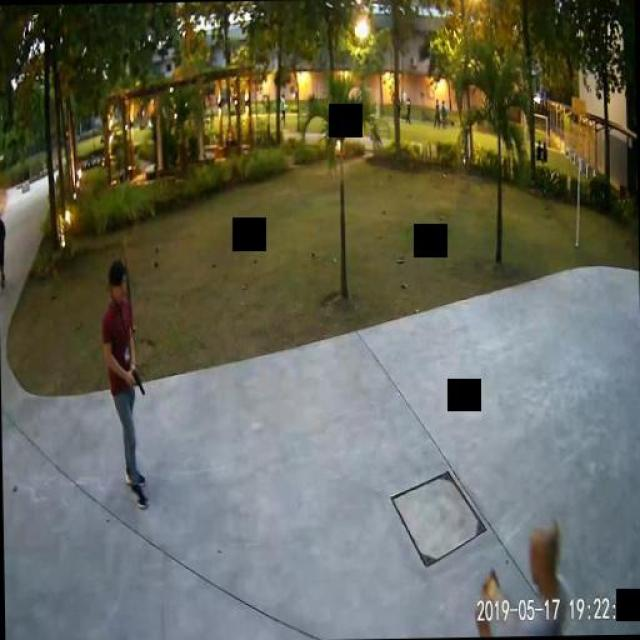gun: (130, 367, 142, 395)
